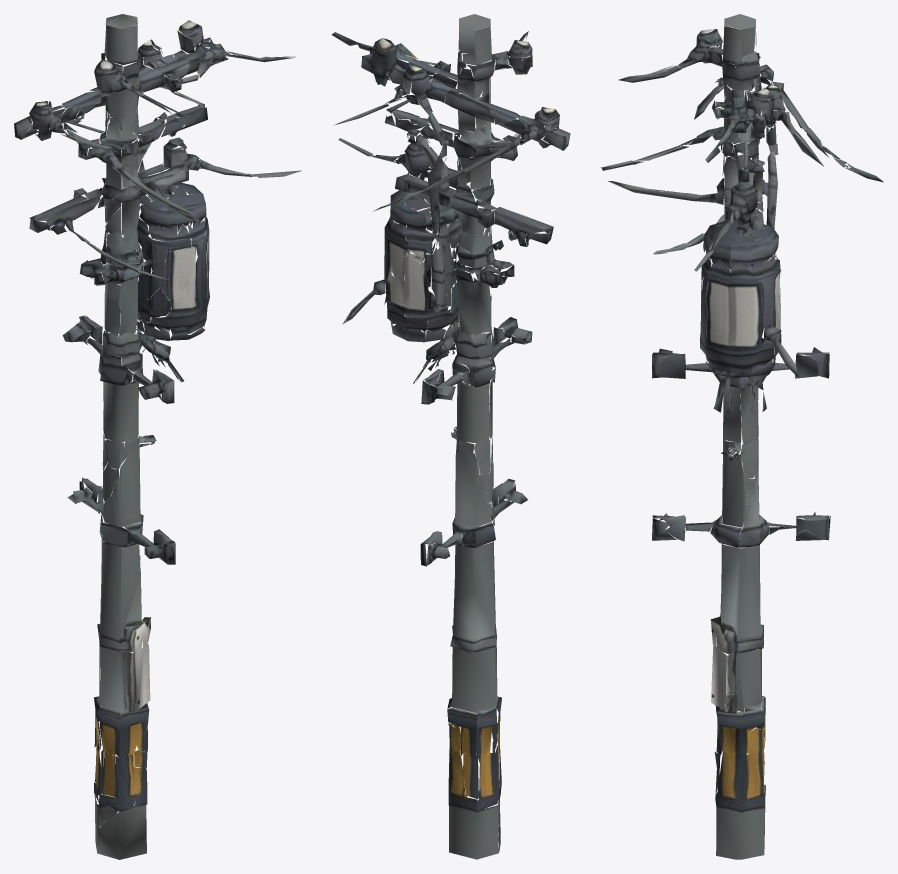
The model's file is prop02.glb.
3 views of the same model, side by side, from view 1: azimuth 30°, elevation 25°; view 2: azimuth 150°, elevation 25°; view 3: azimuth 270°, elevation 25° (orthographic).
Parts seen in each view (by area): view 1: tripo_node_06e970fa-397d-497c-92db-6327b14094e4; view 2: tripo_node_06e970fa-397d-497c-92db-6327b14094e4; view 3: tripo_node_06e970fa-397d-497c-92db-6327b14094e4.
Boxes of the visible parts, <box> form: tripo_node_06e970fa-397d-497c-92db-6327b14094e4: <box>14,14,301,859</box>; tripo_node_06e970fa-397d-497c-92db-6327b14094e4: <box>331,14,570,859</box>; tripo_node_06e970fa-397d-497c-92db-6327b14094e4: <box>600,14,883,859</box>.
Bounding box in the file's own units: 0.3267 × 0.9991 × 0.3116.
1 material, 1 textured.
